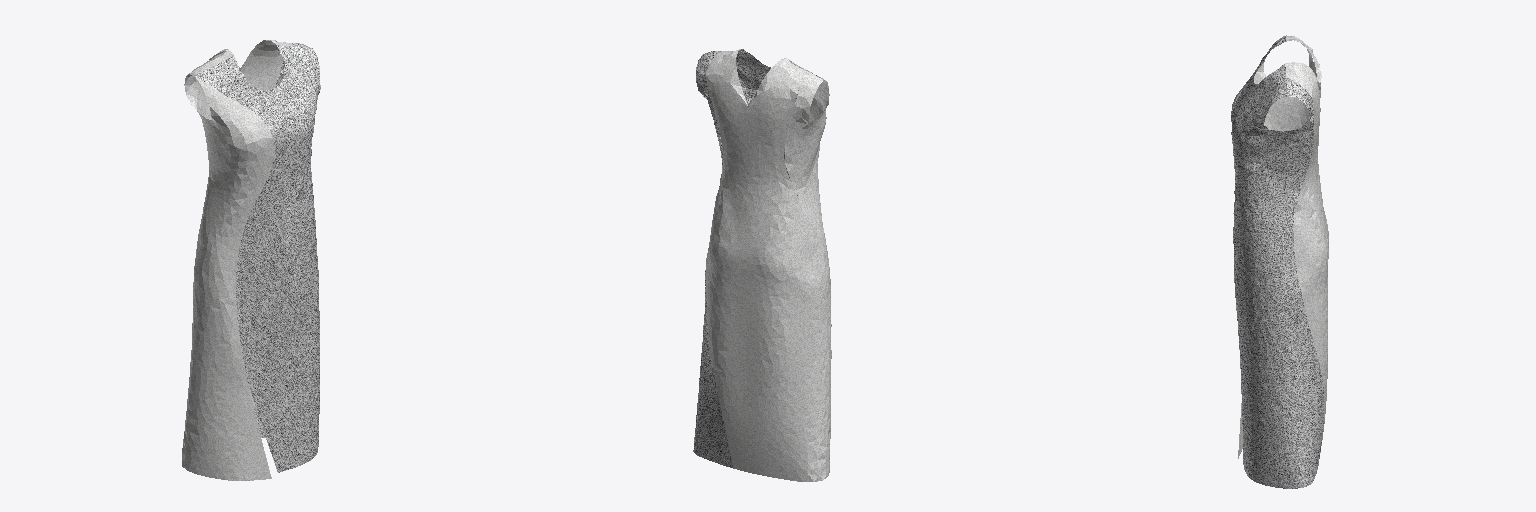
3 views of the same model, side by side, from view 1: azimuth 30°, elevation 25°; view 2: azimuth 150°, elevation 25°; view 3: azimuth 270°, elevation 25° (orthographic).
Bounding box in the file's own units: 397 × 1213 × 261.
Materials: 3 (2 with a texture image).